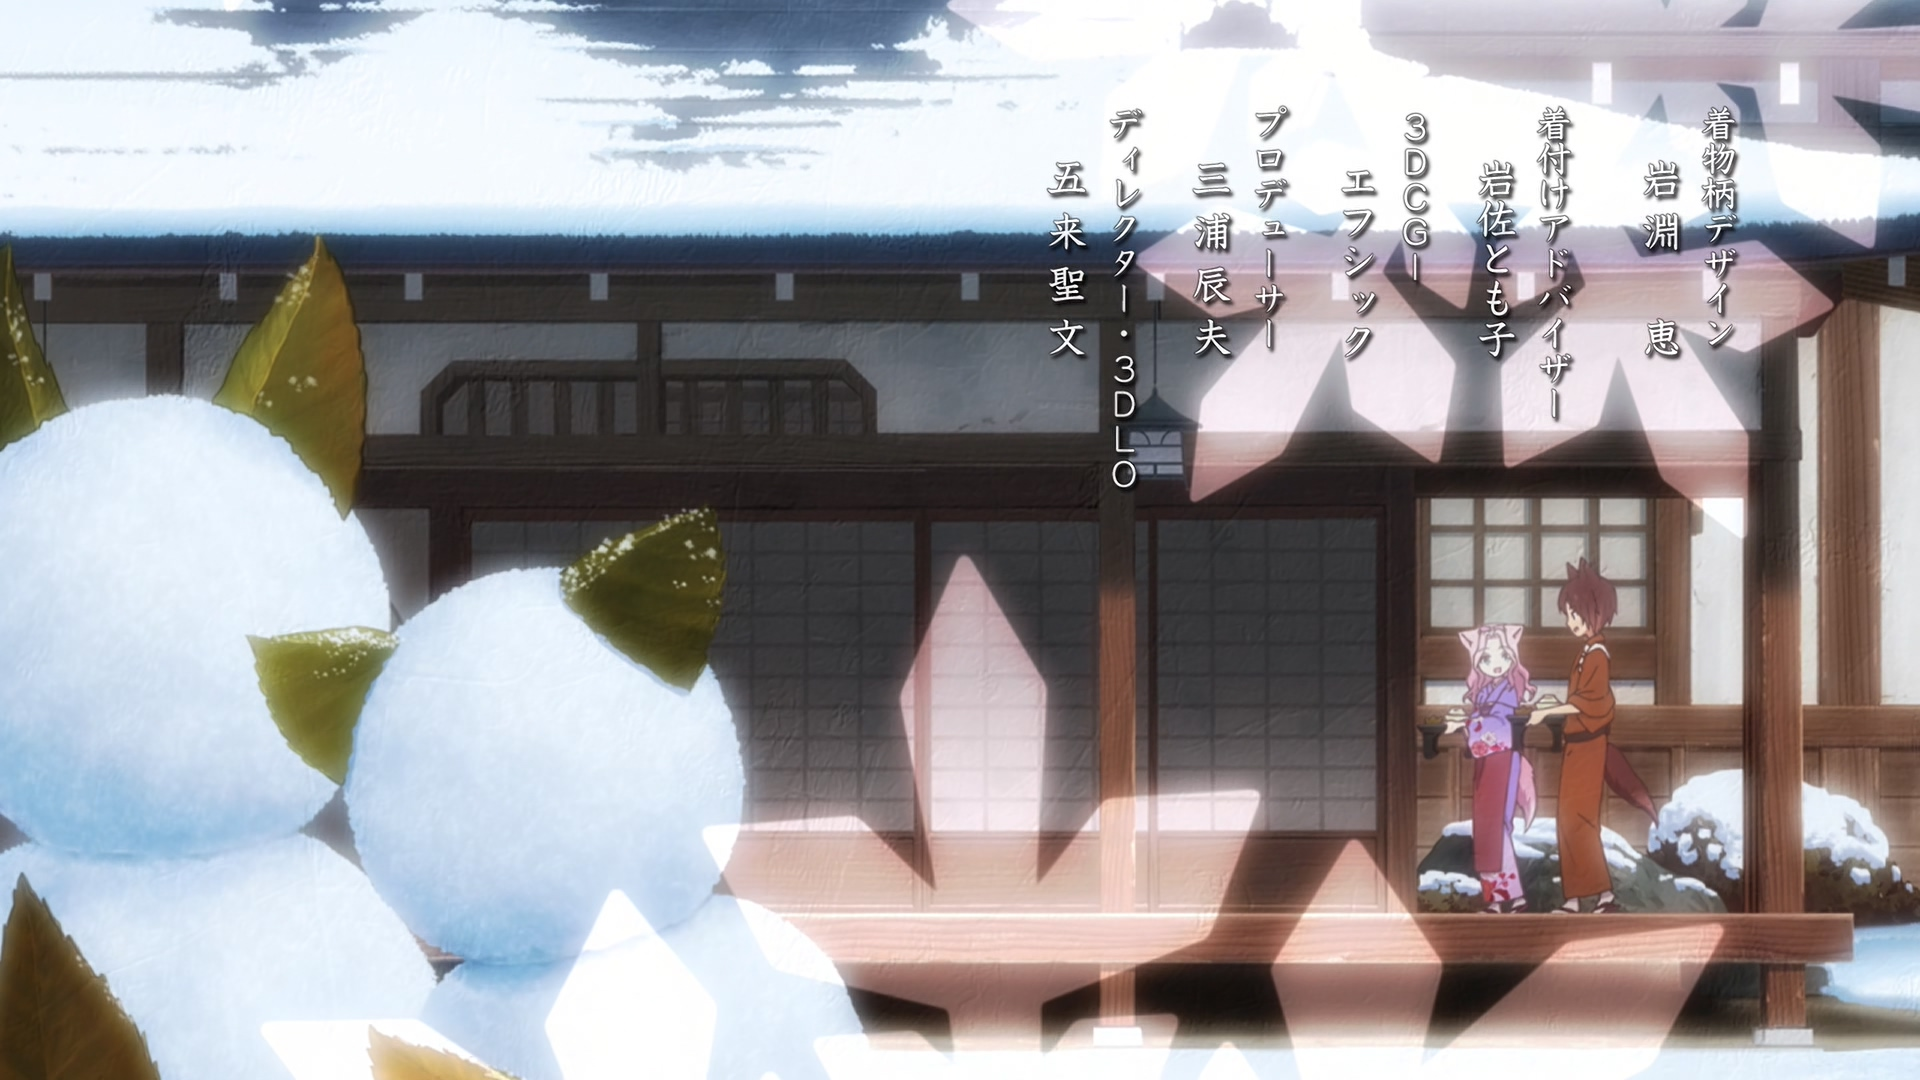枣: (1523, 560, 1660, 913)
莲: (1444, 624, 1538, 915)
